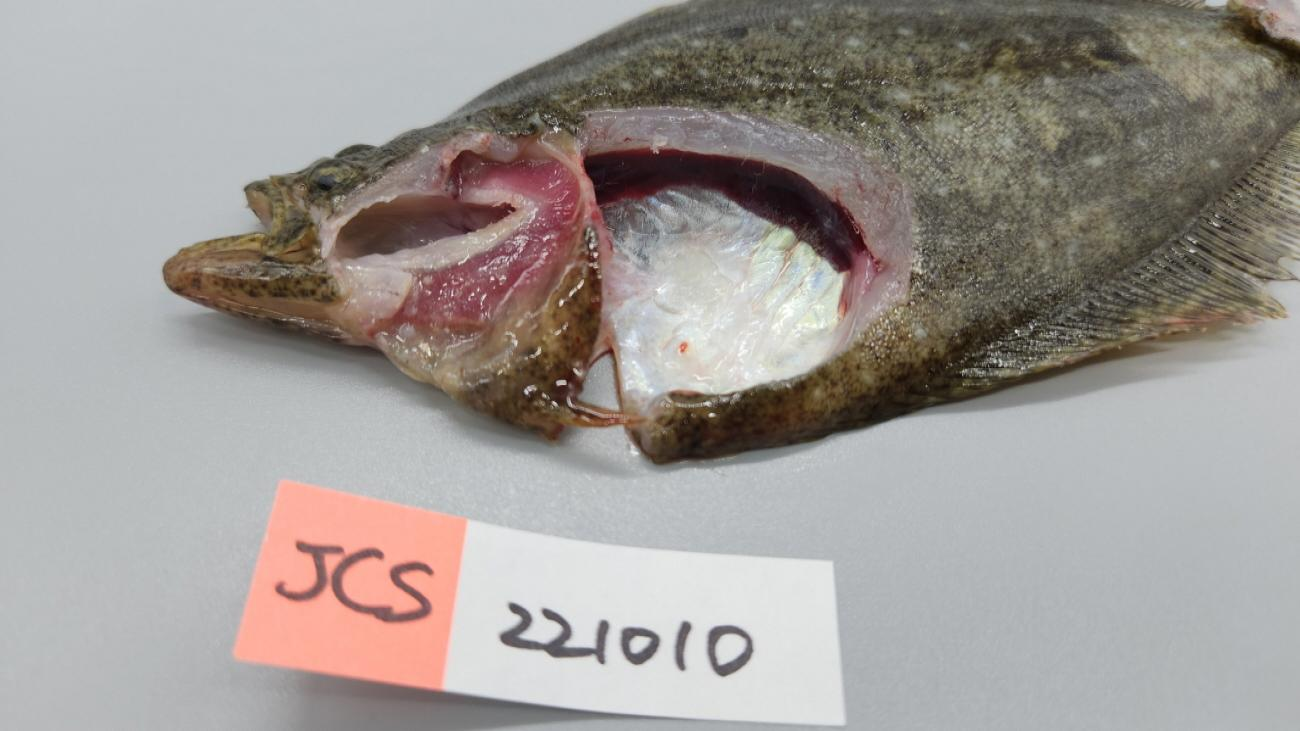POASN: (599, 185, 848, 413)
POKIN: (583, 146, 865, 273)
